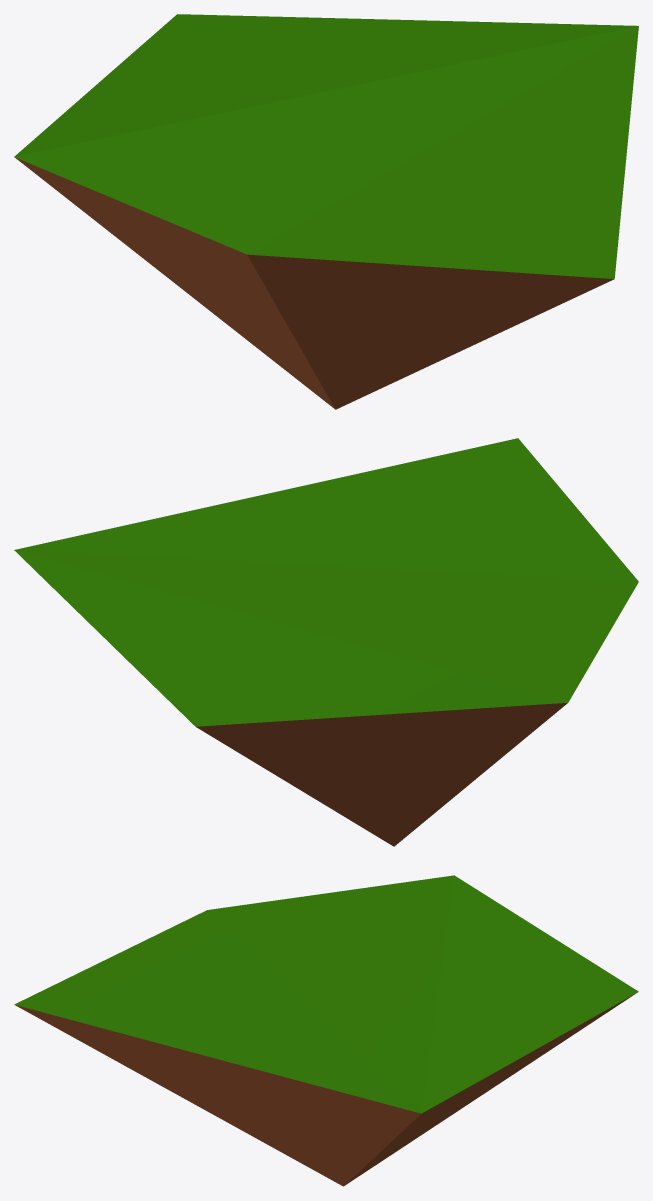
Rendered from lowpolyisland-LOW.fbx.
3 views of the same model, one above another, from view 1: azimuth 30°, elevation 25°; view 2: azimuth 150°, elevation 25°; view 3: azimuth 270°, elevation 25° (orthographic). The views are drawn at different scales.
Visible parts, largest first — view 1: Plane.002; view 2: Plane.002; view 3: Plane.002.
Part boxes in pixels (box(x1,y1,x2,y2)): Plane.002: box(14, 14, 638, 409); Plane.002: box(14, 438, 638, 846); Plane.002: box(14, 875, 638, 1186).
Bounding box in the file's own units: 216 × 90.29 × 241.
